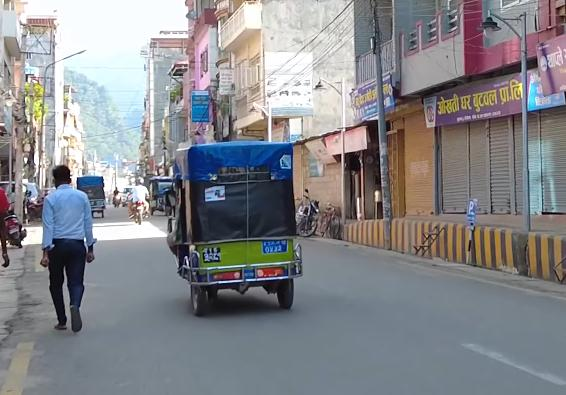bike: (298, 189, 318, 237)
e-rickshaw: (172, 136, 298, 317), (76, 173, 106, 220)
